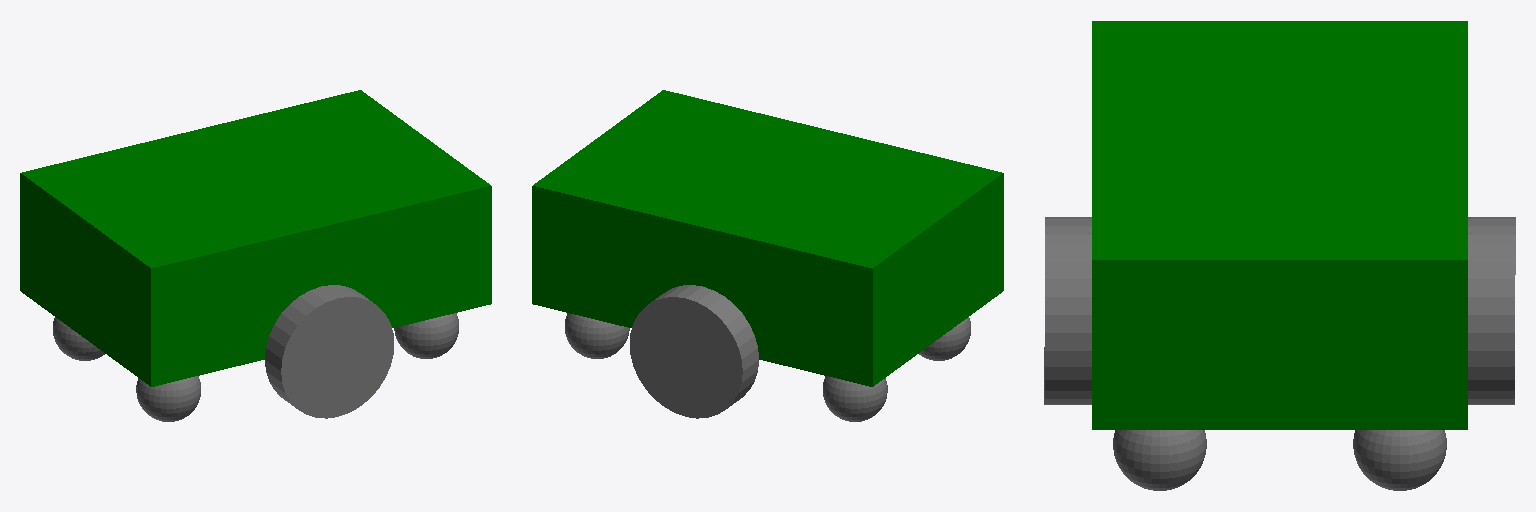
The robot description file, URDF, robot "robo_deccal":
<?xml version="1.0"?>
<robot name="robo_deccal">

    <material name="green">
        <color rgba="0 0.5 0 0.8"/> <!-- red green blue alpha(opaklık) hepsi 1 ila 0 arasında değer almakta-->
    </material>
    
    <material name="gray">
        <color rgba="0.5 0.5 0.5 1"/> <!-- red green blue alpha(opaklık) hepsi 1 ila 0 arasında değer almakta-->
    </material>

    <link name="footprint">
    </link>

    <link name="base_link">
        <visual>
            <geometry>
                <box size="0.6 0.4 0.2"/>
            </geometry>
            <origin xyz="0 0 0" rpy="0 0 0"/> 
            <material name="green"/>
        </visual>
    </link>

    <link name="wheel_left">
        <visual>
            <geometry>
                <cylinder radius="0.1" length="0.05"/>
            </geometry>
            <origin xyz="0 0 0" rpy="1.57 0 0"/> <!-- la aganiga row'u negatif yapmanın manasi nedir acaba-->
            <material name="gray"/>
        </visual> 
    </link>

    <link name="wheel_right">
        <visual>
            <geometry>
                <cylinder radius="0.1" length="0.05"/>
            </geometry>
            <origin xyz="0 0 0" rpy="1.57 0 0"/>
            <material name="gray"/>
        </visual> 
    </link>

    <link name="cwh_lf">
        <visual>
            <geometry>
                <sphere radius="0.05"/>
            </geometry>
            <material name="gray"/>
        </visual> 
    </link>

    <link name="cwh_rf">
        <visual>
            <geometry>
                <sphere radius="0.05"/>
            </geometry>
            <material name="gray"/>
        </visual> 
    </link>

    <link name="cwh_lb">
        <visual>
            <geometry>
                <sphere radius="0.05"/>
            </geometry>
            <material name="gray"/>
        </visual> 
    </link>

    <link name="cwh_rb">
        <visual>
            <geometry>
                <sphere radius="0.05"/>
            </geometry>
            <material name="gray"/>
        </visual> 
    </link>

    <!-- type="fixed" demek sanki tek parçaymış gibi birbirine bağlamak demektir -->

    <!-- <joint name="base_second_joint" type="fixed">
        <parent link="base_link"/>
        <child link="second_link"/>
        <origin xyz="0 0 0.2" rpy="0 0 0"/>
    </joint> -->

    <!-- type="prismatic" demek child'i parent'ına bir eksen boyunca lineer hareket edecek şekilde birbirine bağlamak demektir -->
<!-- 
    <joint name="second_box2_joint" type="prismatic">
        <parent link="second_link"/>
        <child link="box2_link"/>
        <origin xyz="0 0 0.2" rpy="0 0 0"/>
        <axis xyz="1 0 0"/> //eksen seçimi 
        <limit lower="-0.2" upper="0.2" velocity="100" effort="100"/> //sınırların belirlenmesi
    </joint>  -->

    <!-- type="prismatic" demek child'i parent'ına bir eksen boyunca lineer hareket edecek şekilde birbirine bağlamak demektir -->
<!--
    <joint name="second_box2_joint" type="prismatic">
        <parent link="second_link"/>
        <child link="box2_link"/>
        <origin xyz="0 0 0.2" rpy="0 0 0"/>
        <axis xyz="1 0 0"/> //eksen seçimi -
        <limit lower="-0.2" upper="0.2" velocity="100" effort="100"/> //sınırların belirlenmesi
    </joint> 
-->

    <!-- type="continuous" demek sanki revolute gibi ama sınırı yok. Örneği teker gibi. Tekerin dönüşünün maks veya min bir değeri yoktur -->

    <joint name="footprint_TO_base" type="fixed">
        <parent link="footprint"/>
        <child link="base_link"/>
        <origin xyz="0 0 0.2" rpy="0 0 0"/>
    </joint>

    <joint name="base_TO_whell_left" type="continuous">
        <parent link="base_link"/>
        <child link="wheel_left"/>
        <origin xyz="0 0.225 -0.1" rpy="0 0 0"/>
        <axis xyz="0 1 0"/>
    </joint>

    <joint name="base_TO_whell_right" type="continuous">
        <parent link="base_link"/>
        <child link="wheel_right"/>
        <origin xyz="0 -0.225 -0.1" rpy="0 0 0"/>
        <axis xyz="0 1 0"/>
    </joint>

    <joint name="base_TO_cwh_lf" type="continuous">
        <parent link="base_link"/>
        <child link="cwh_lf"/>
        <origin xyz="0.2275 0.1275 -0.15" rpy="0 0 0"/>
        <axis xyz="0 1 0"/>
    </joint>
    
    <joint name="base_TO_cwh_rf" type="continuous">
        <parent link="base_link"/>
        <child link="cwh_rf"/>
        <origin xyz="0.2275 -0.1275 -0.15" rpy="0 0 0"/>
        <axis xyz="0 1 0"/>
    </joint>

    <joint name="base_TO_cwh_lb" type="continuous">
        <parent link="base_link"/>
        <child link="cwh_lb"/>
        <origin xyz="-0.2275 0.1275 -0.15" rpy="0 0 0"/>
        <axis xyz="0 1 0"/>
    </joint>

    <joint name="base_TO_cwh_rb" type="continuous">
        <parent link="base_link"/>
        <child link="cwh_rb"/>
        <origin xyz="-0.2275 -0.1275 -0.15" rpy="0 0 0"/>
        <axis xyz="0 1 0"/> 
    </joint>

    <!-- type="revolute" demek sanki tek parçaymış lakin sonrasında takılan parça kendi eksenleri etrafında dönebilir şekilinde birbirine bağlamak demektir -->
<!-- 
    <joint name="second_box2_joint" type="revolute">
        <parent link="second_link"/>
        <child link="box2_link"/>
        <origin xyz="0 0 0.2" rpy="0 0 0"/>
        <axis xyz="0 0 1"/>
        <limit lower="-1.57" upper="1.57" velocity="100" effort="100"/>
    </joint>
-->

</robot>

--- Render facts (derived) ---
The picture shows the robot from 3 angles, left to right: view 1: azimuth 30°, elevation 25°; view 2: azimuth 150°, elevation 25°; view 3: azimuth 270°, elevation 25°; orthographic projection.
Model robo_deccal with 8 links and 7 joints (6 continuous, 1 fixed), rooted at footprint, posed all joints at 0.
Links seen in each view (by area): view 1: base_link, wheel_right, cwh_rb, cwh_rf, cwh_lb; view 2: base_link, wheel_left, cwh_lb, cwh_lf, cwh_rb; view 3: base_link, wheel_left, wheel_right, cwh_lf, cwh_rf.
Boxes of the visible links, x1,y1,x2,y2 form: base_link: (20,90,491,386); wheel_right: (265,285,393,418); cwh_rb: (136,376,200,421); cwh_rf: (394,313,458,358); cwh_lb: (53,317,104,360); base_link: (532,90,1003,386); wheel_left: (630,285,758,418); cwh_lb: (823,376,887,421); cwh_lf: (565,313,629,358); cwh_rb: (919,317,970,360); base_link: (1092,21,1467,429); wheel_left: (1468,217,1515,404); wheel_right: (1044,217,1091,404); cwh_lf: (1353,430,1446,490); cwh_rf: (1113,430,1206,490).
Size in the robot's own frame: 0.6 by 0.5002 by 0.3 metres.
Geometry: primitives only (box / cylinder / sphere), no mesh files.
